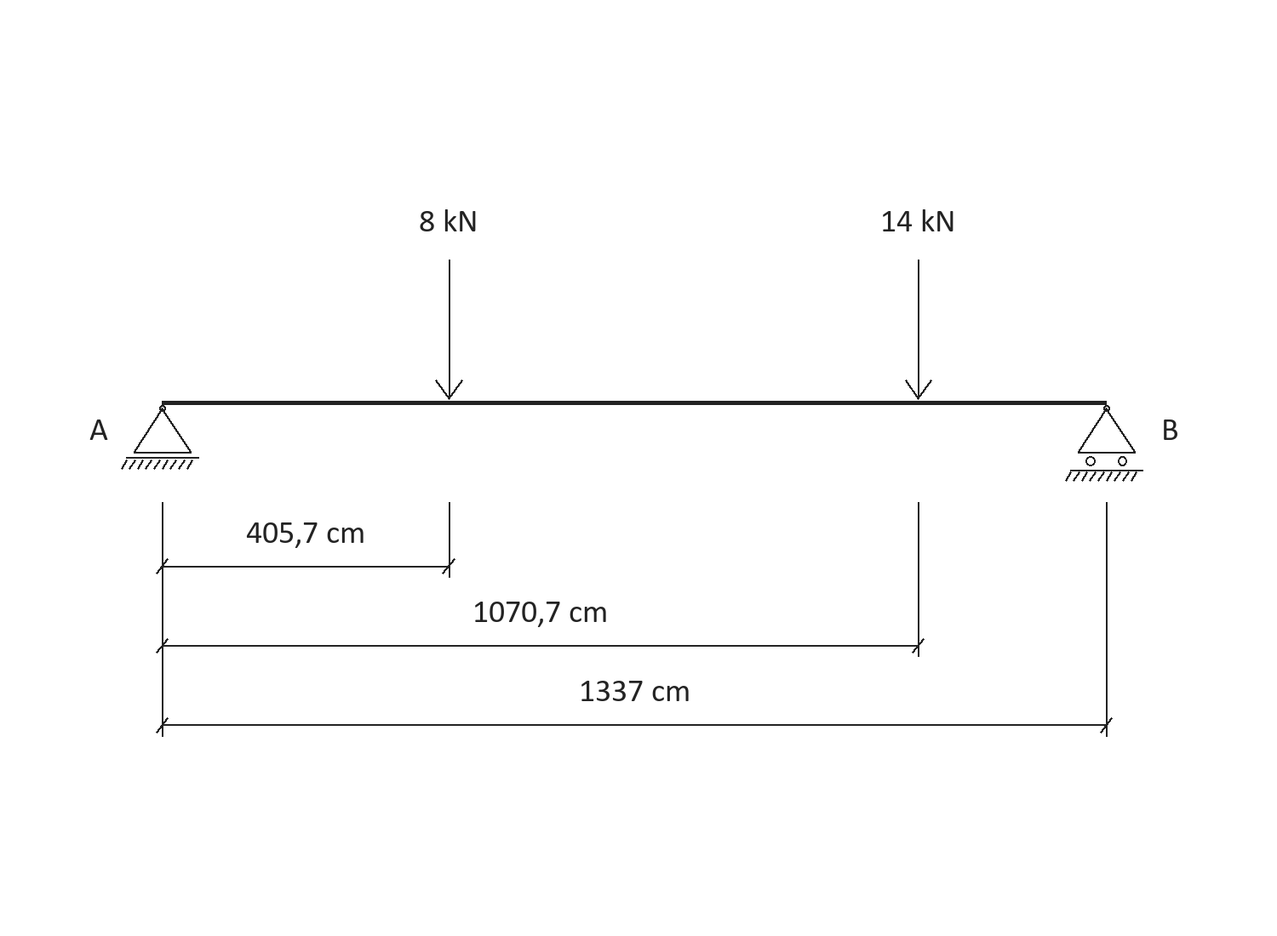pin_support: (121, 405, 199, 470)
point_load: (435, 260, 463, 400), (905, 260, 932, 400)
roller_support: (1065, 405, 1143, 482)
